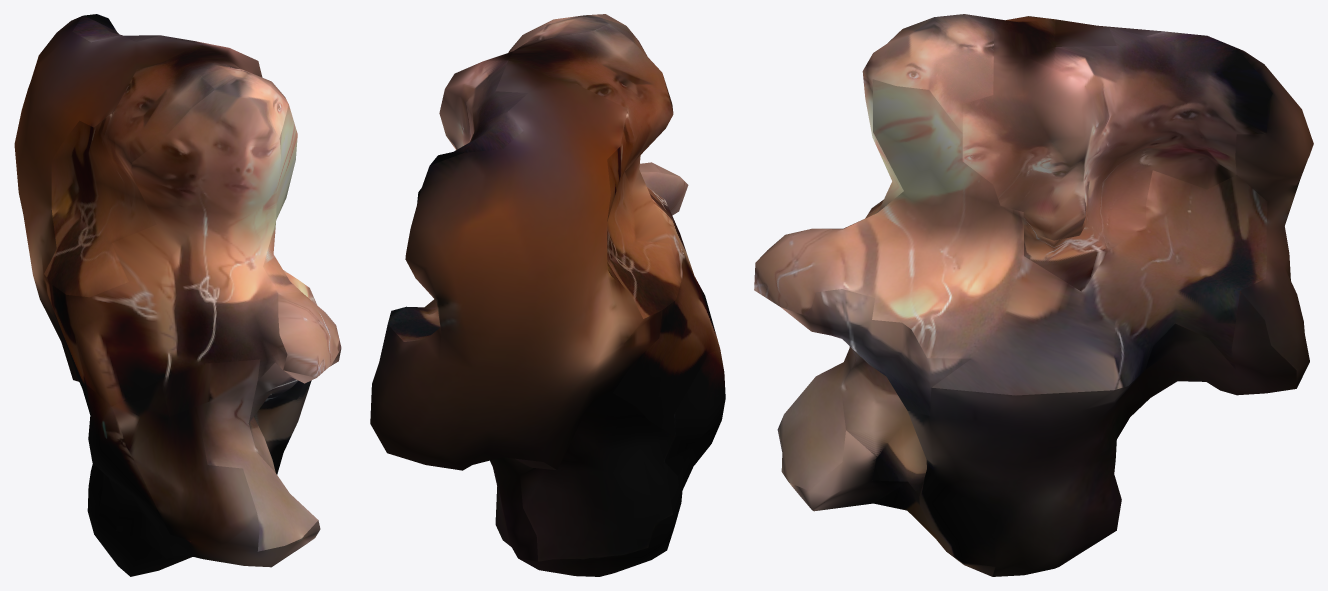
File: vstup.glb
3 renders of one model, left to right at view 1: azimuth 30°, elevation 25°; view 2: azimuth 150°, elevation 25°; view 3: azimuth 270°, elevation 25°, orthographic. The views are drawn at different scales.
Parts seen in each view (by area): view 1: default.002; view 2: default.002; view 3: default.002.
Part boxes in pixels (<box>): default.002: <box>14,14,341,576</box>; default.002: <box>370,14,725,576</box>; default.002: <box>754,14,1313,576</box>.
Size of the model in its own units: 1.37 by 2.85 by 2.64.
1 material, 1 textured.
